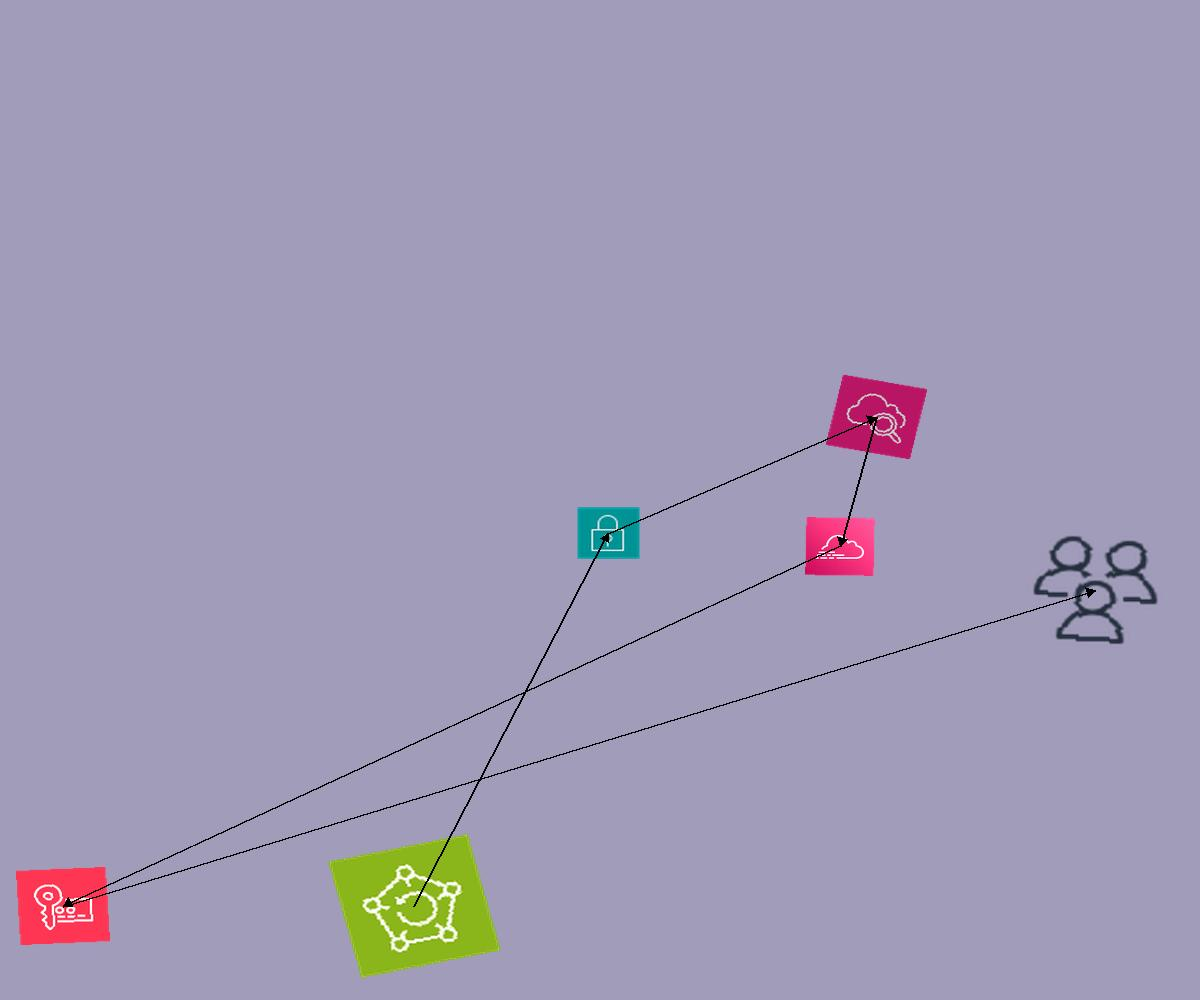AWS-Backup: (327, 833, 502, 979)
AWS-CloudTrail: (805, 517, 875, 576)
AWS-CloudWatch: (825, 374, 928, 460)
AWS-Key-Management-Service: (16, 867, 110, 945)
AWS-Private-subnet: (576, 506, 641, 560)
AWS-Res_Users: (1020, 527, 1171, 653)
